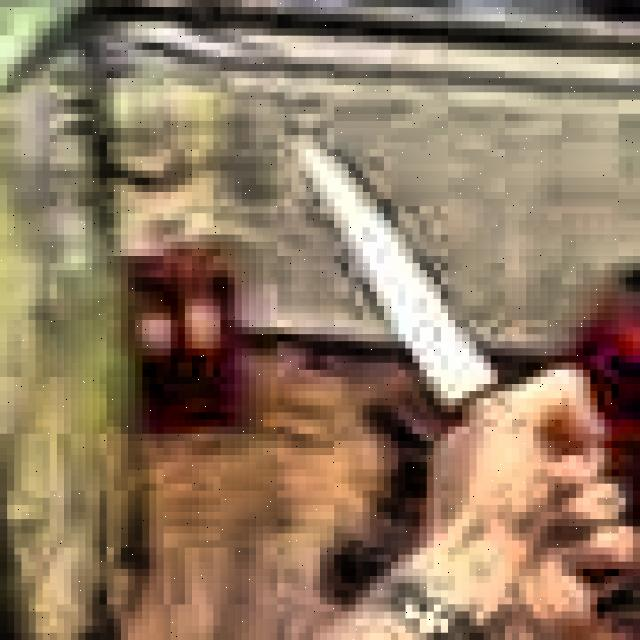knife: (300, 149, 640, 601)
